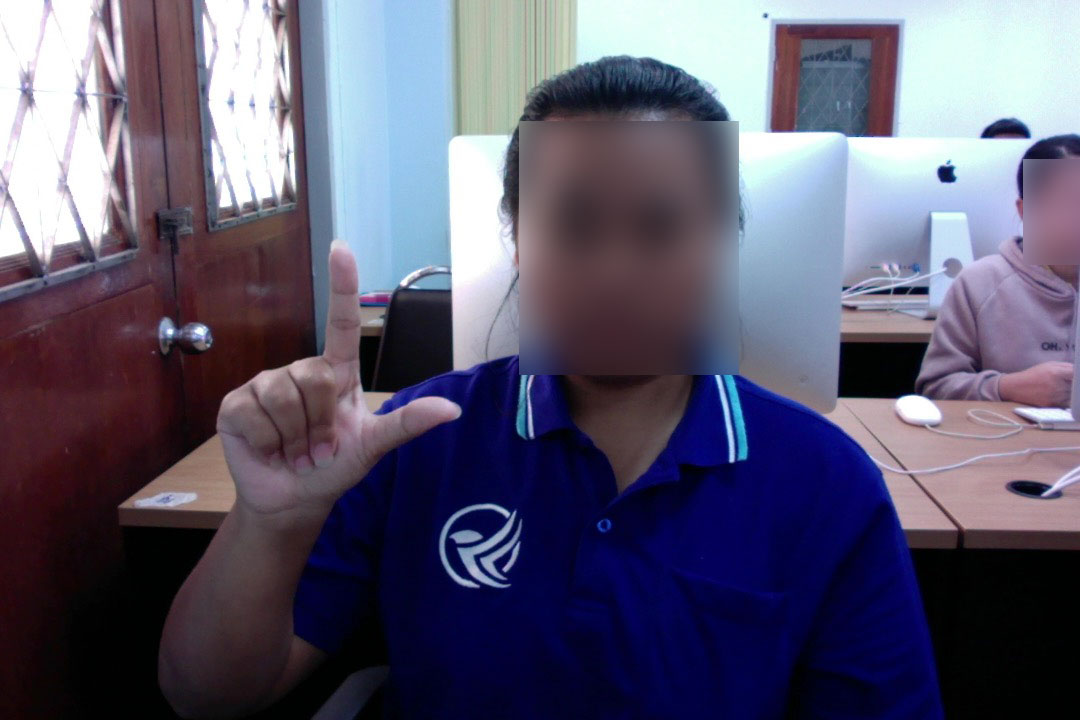lor: (203, 228, 477, 538)
